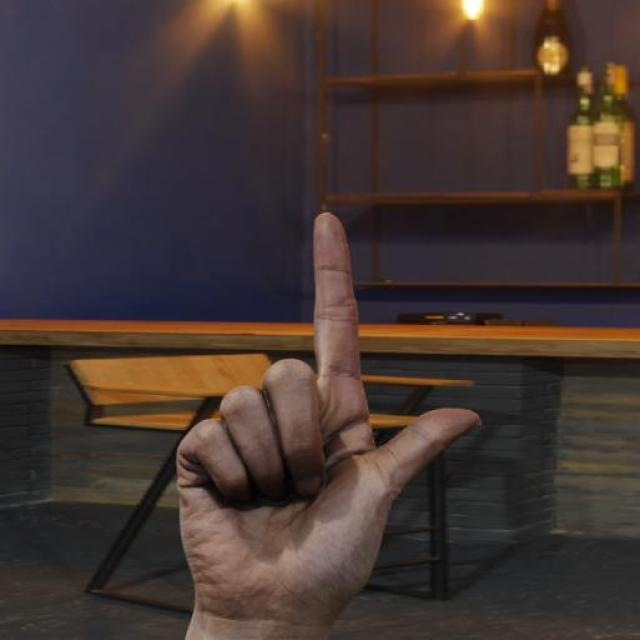L: (135, 187, 515, 640)
